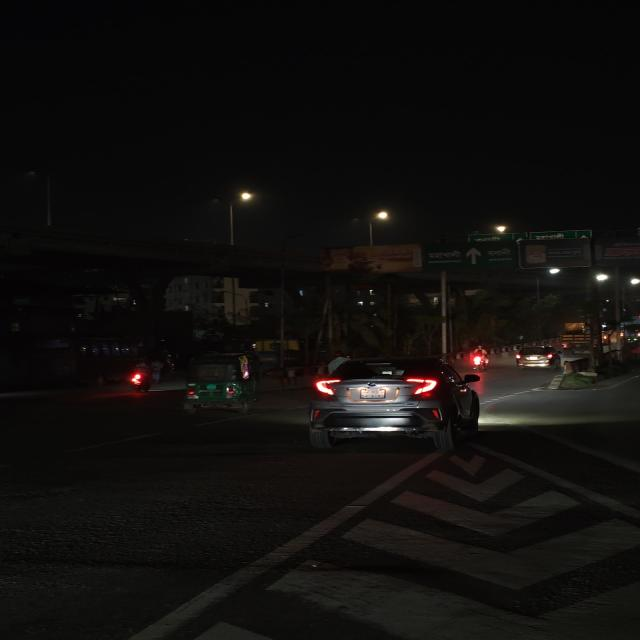car: (302, 357, 487, 450), (511, 342, 562, 372)
cng: (180, 349, 269, 419)
motorcycle: (119, 357, 160, 393), (468, 345, 492, 371)
